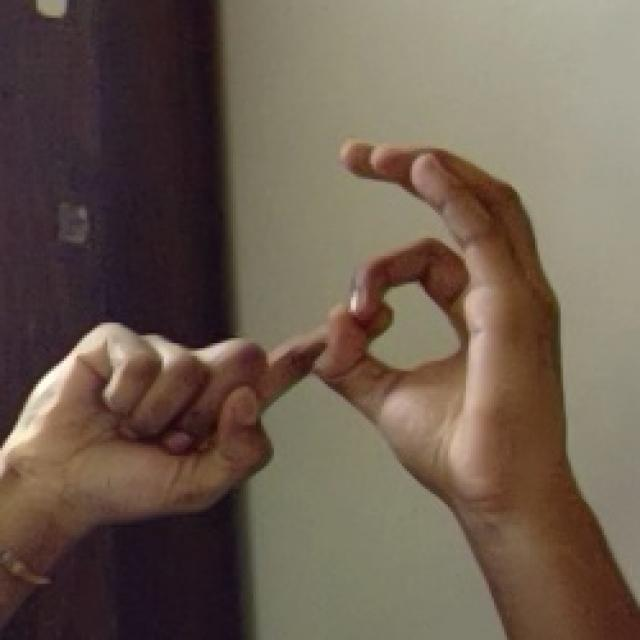Alphabet-Q: (19, 133, 586, 534)
